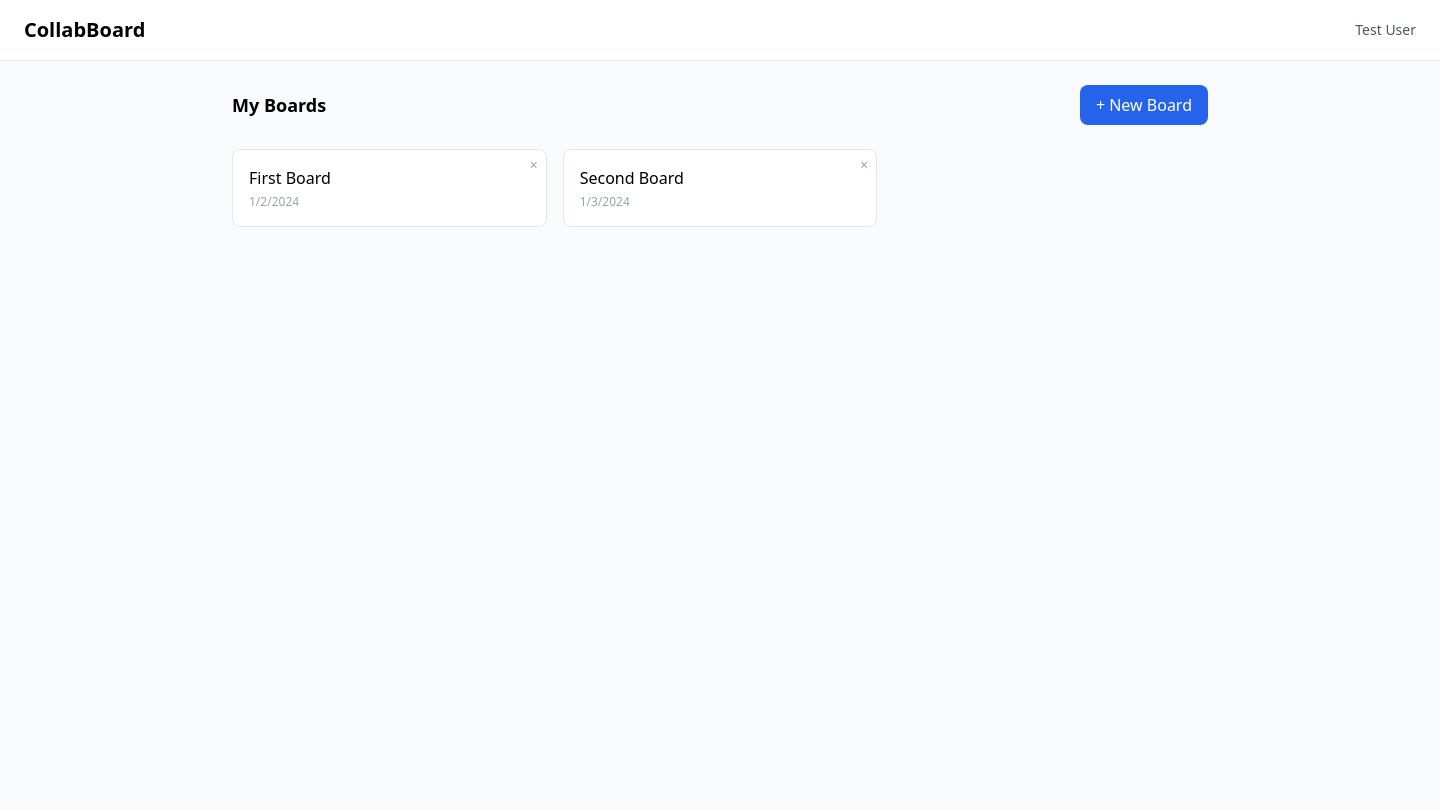
DashboardPage — delete board › opens native dialog when delete button is clicked
Expected: the heading "First Board" is shown, [249,167,331,189]
Click the button named "delete board". click: (534, 165)
box: [530,158,538,172]
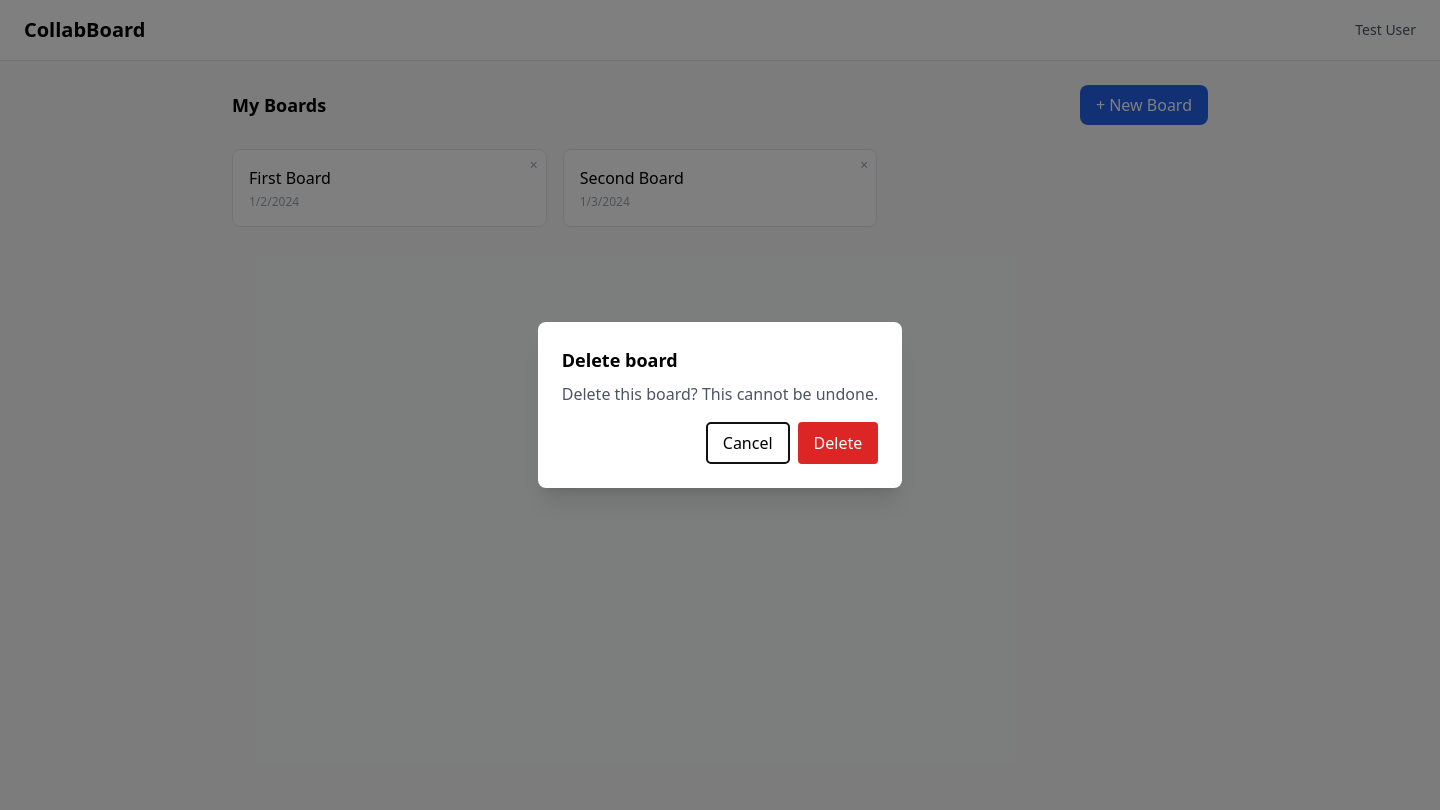
Expected: the text "Delete this board? This cannot be undone." is shown, [562,382,878,406]
